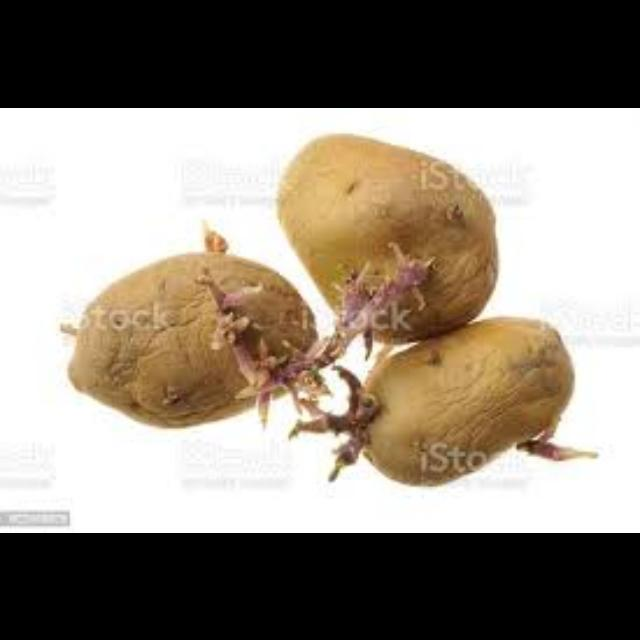Sprouted potato: (286, 308, 614, 496), (52, 221, 346, 421), (268, 134, 522, 346)
